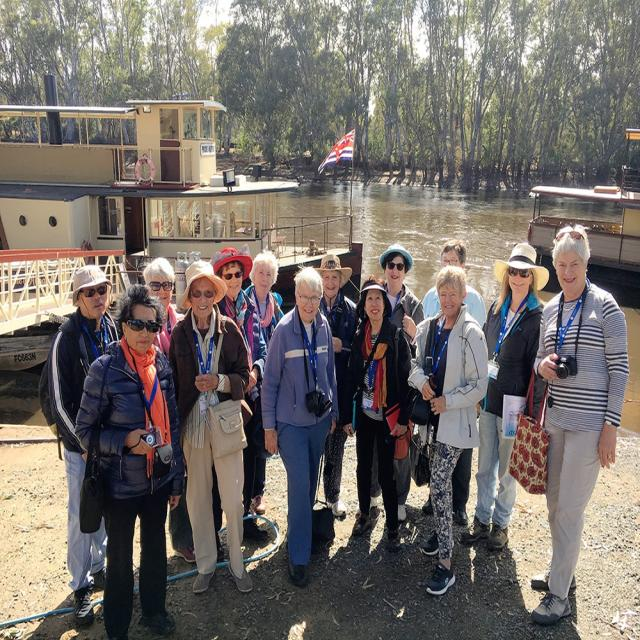body: (507, 225, 632, 624), (73, 283, 186, 639), (38, 264, 124, 630), (166, 260, 256, 595), (460, 243, 552, 550), (406, 264, 489, 596), (260, 264, 339, 588), (337, 273, 410, 555), (419, 238, 488, 525), (210, 246, 269, 542), (142, 255, 195, 563), (371, 242, 425, 522), (312, 253, 358, 517), (243, 251, 286, 521), (150, 201, 280, 240), (3, 116, 133, 145), (590, 161, 636, 191)
